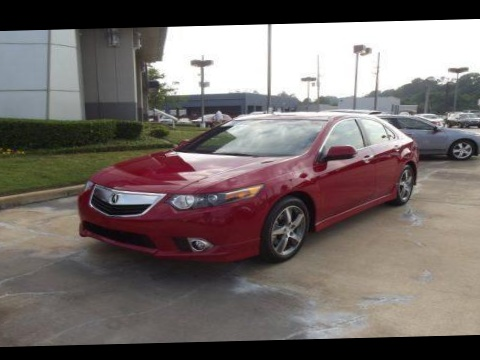car: (66, 100, 426, 274)
